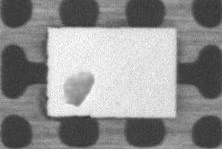DIE_INK: (64, 68, 94, 105)
